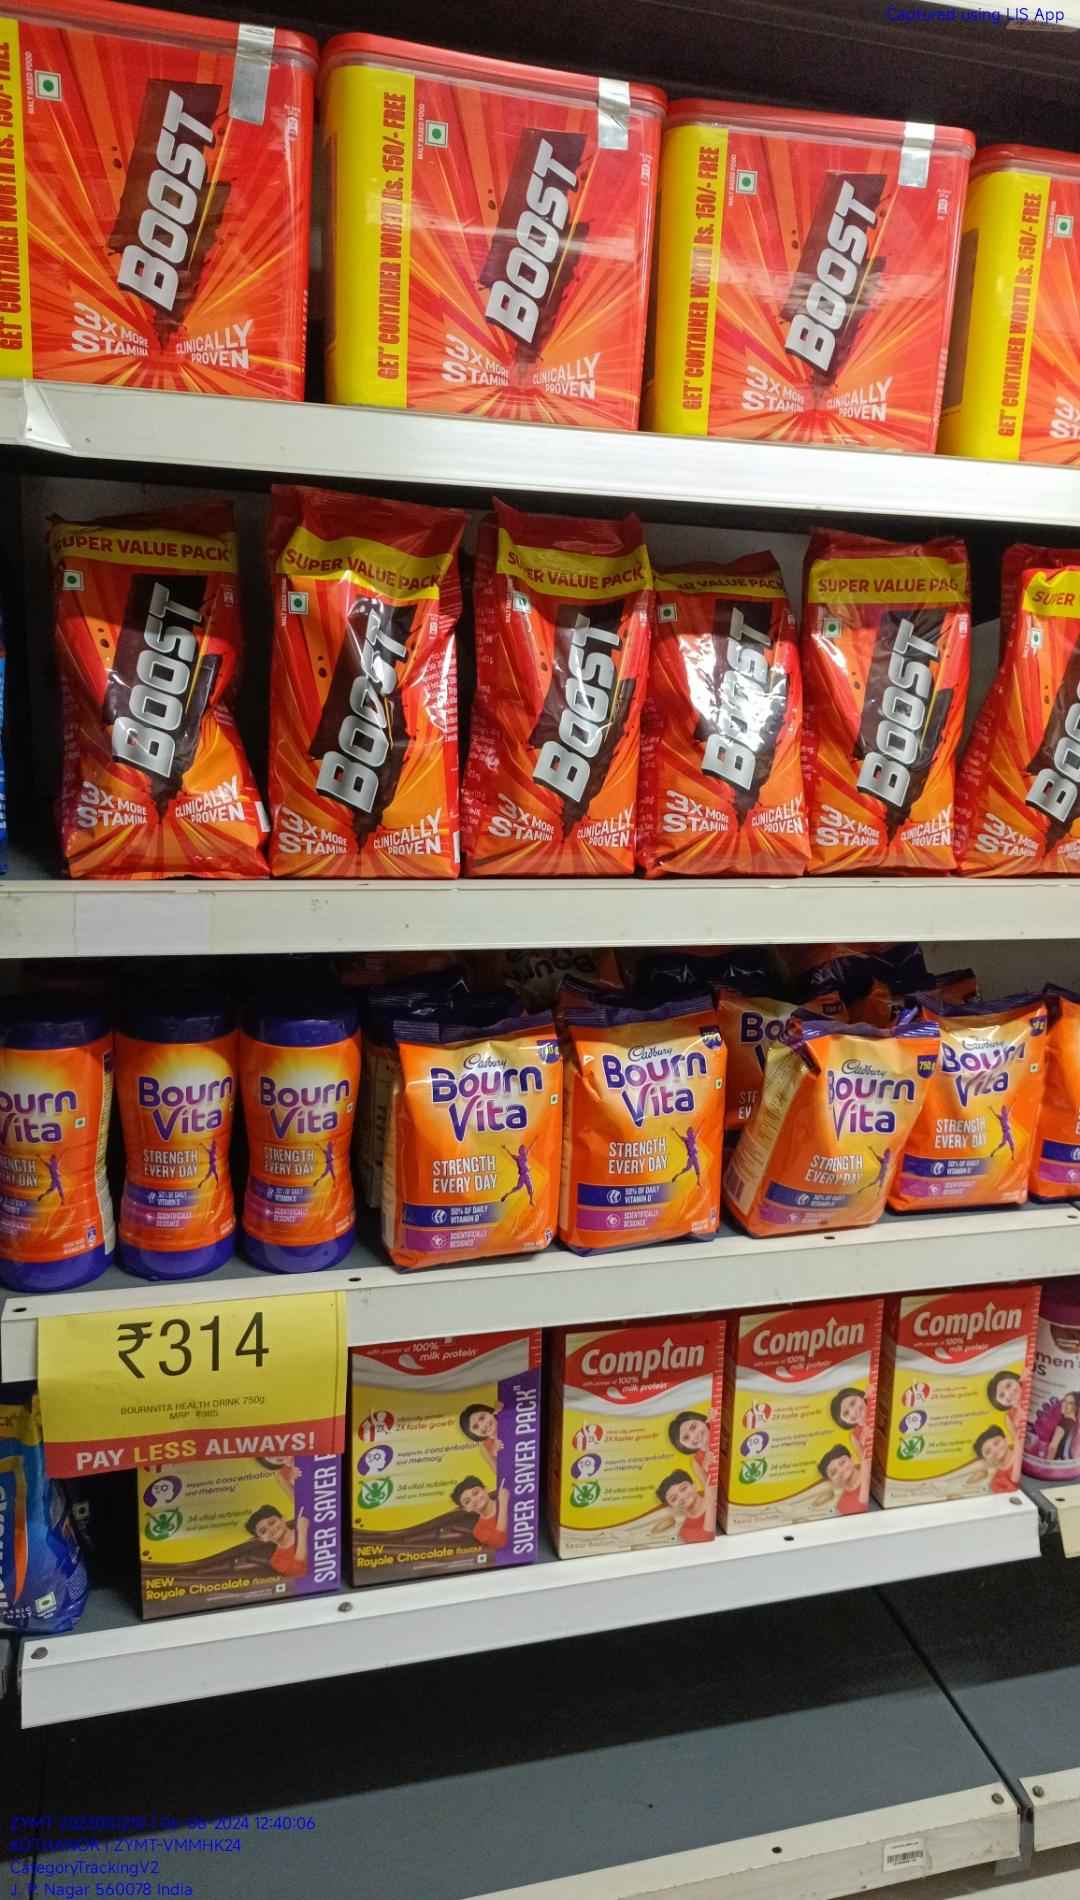BOURN_VITA_500_G_JAR: (236, 1017, 359, 1270), (124, 996, 230, 1279), (0, 996, 100, 1285)
BOURN_VITA_750_G_POUCH: (389, 1014, 554, 1274), (569, 998, 724, 1253), (743, 1032, 939, 1232), (942, 1007, 1050, 1208)
COMPLAN_CHOCOLATE_1_KG_PACK: (353, 1344, 535, 1575)
COMPLAN_KESAR_BADAM_500_GMS_PACK: (560, 1335, 717, 1553), (730, 1309, 879, 1537), (886, 1284, 1036, 1502)
